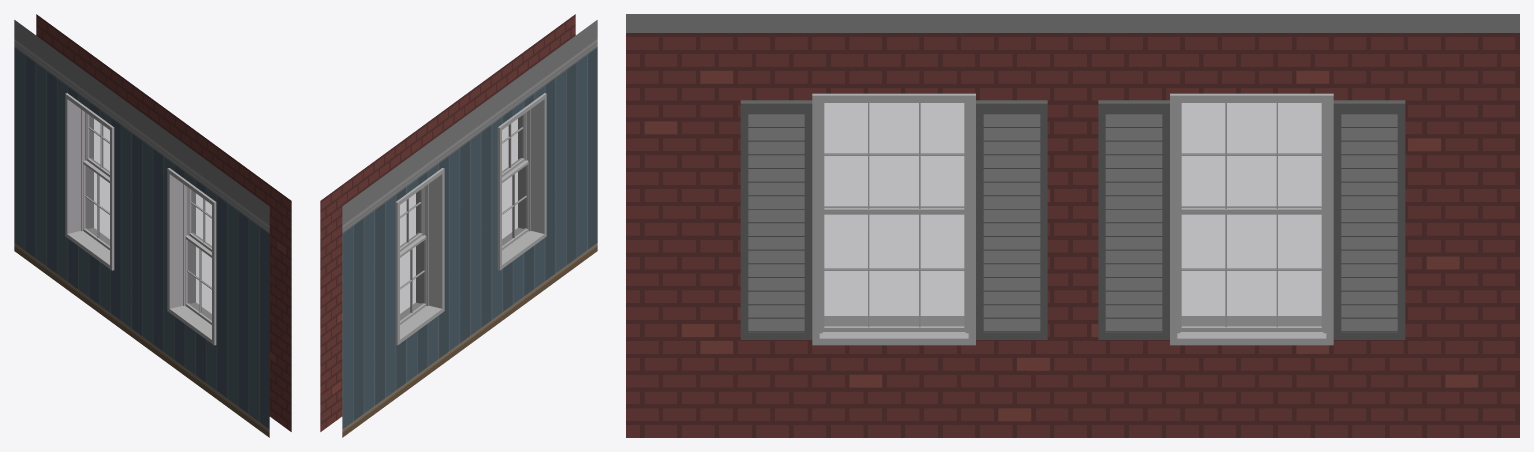
The model's file is SM_window_02_long.glb.
3 views of the same model, side by side, from view 1: azimuth 30°, elevation 25°; view 2: azimuth 150°, elevation 25°; view 3: azimuth 270°, elevation 25° (orthographic). The views are drawn at different scales.
Parts seen in each view (by area): view 1: SM_window_02_long; view 2: SM_window_02_long; view 3: SM_window_02_long.
Part boxes in pixels (x1,y1,x2,y2): SM_window_02_long: (14,14,291,437); SM_window_02_long: (320,14,597,437); SM_window_02_long: (626,14,1519,437).
Bounding box in the file's own units: 0.403 × 3 × 6.
Materials: 4 (3 with a texture image).
